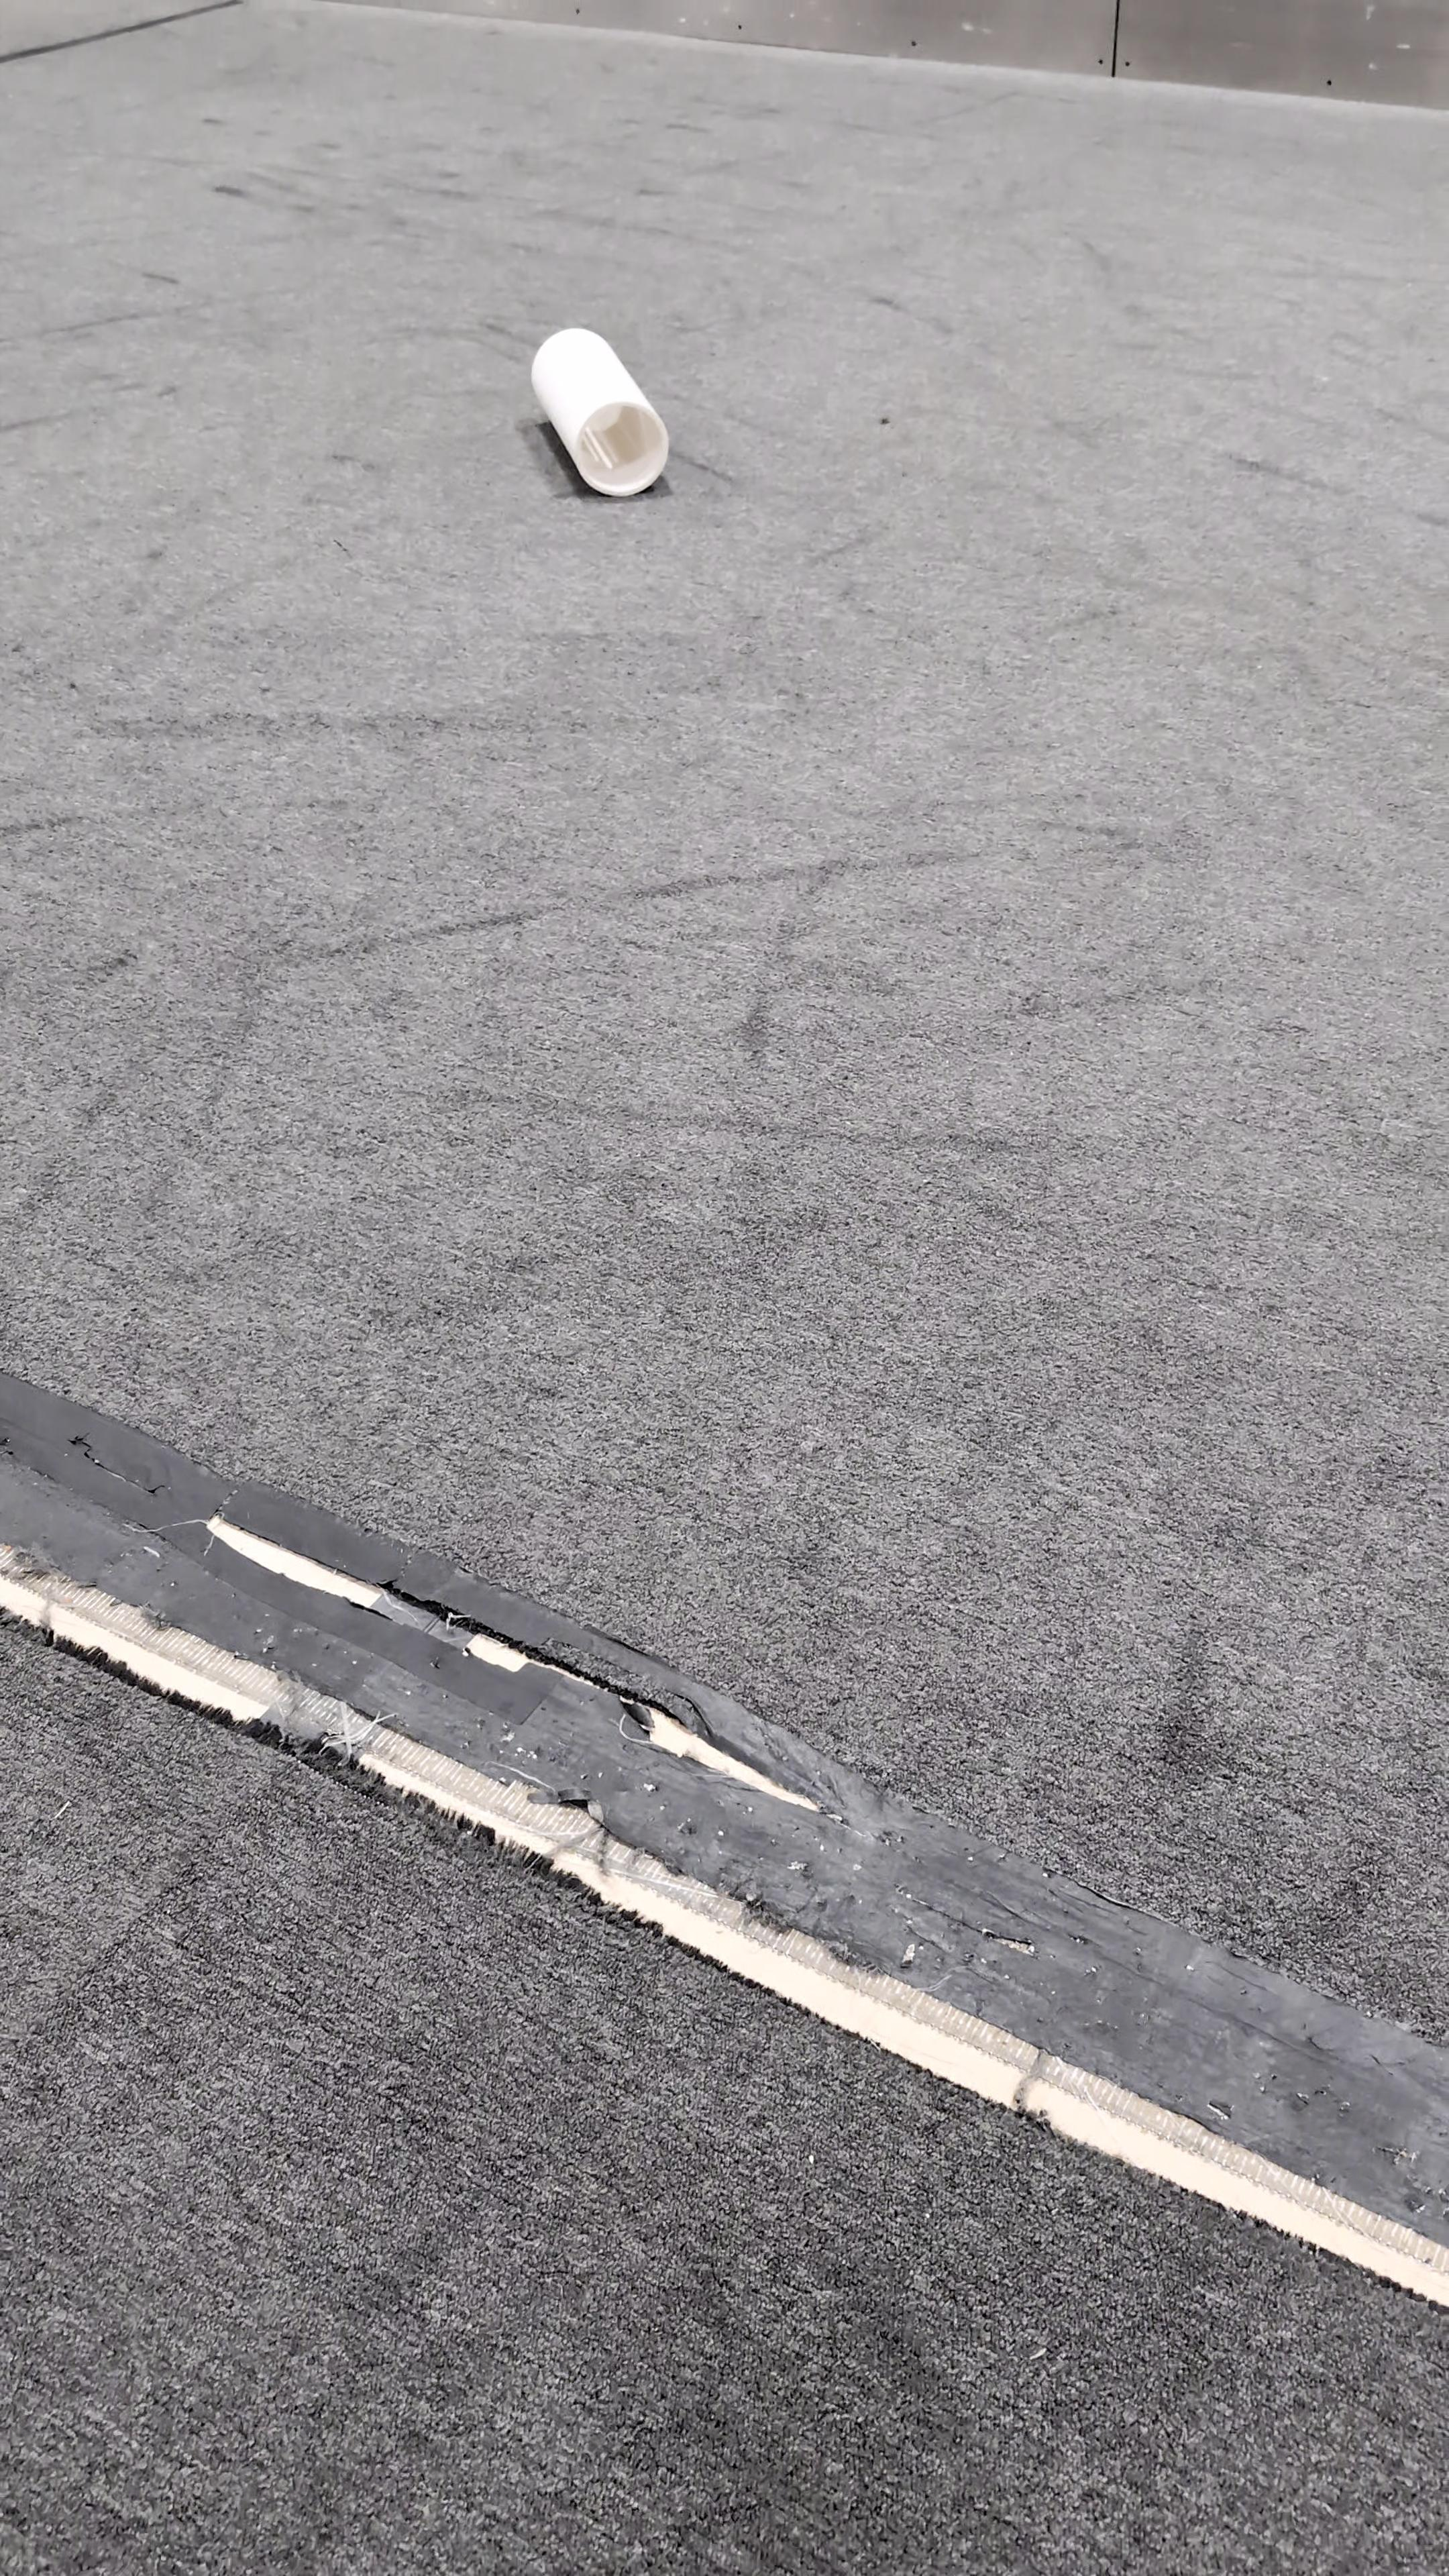coral: (531, 322, 674, 494)
